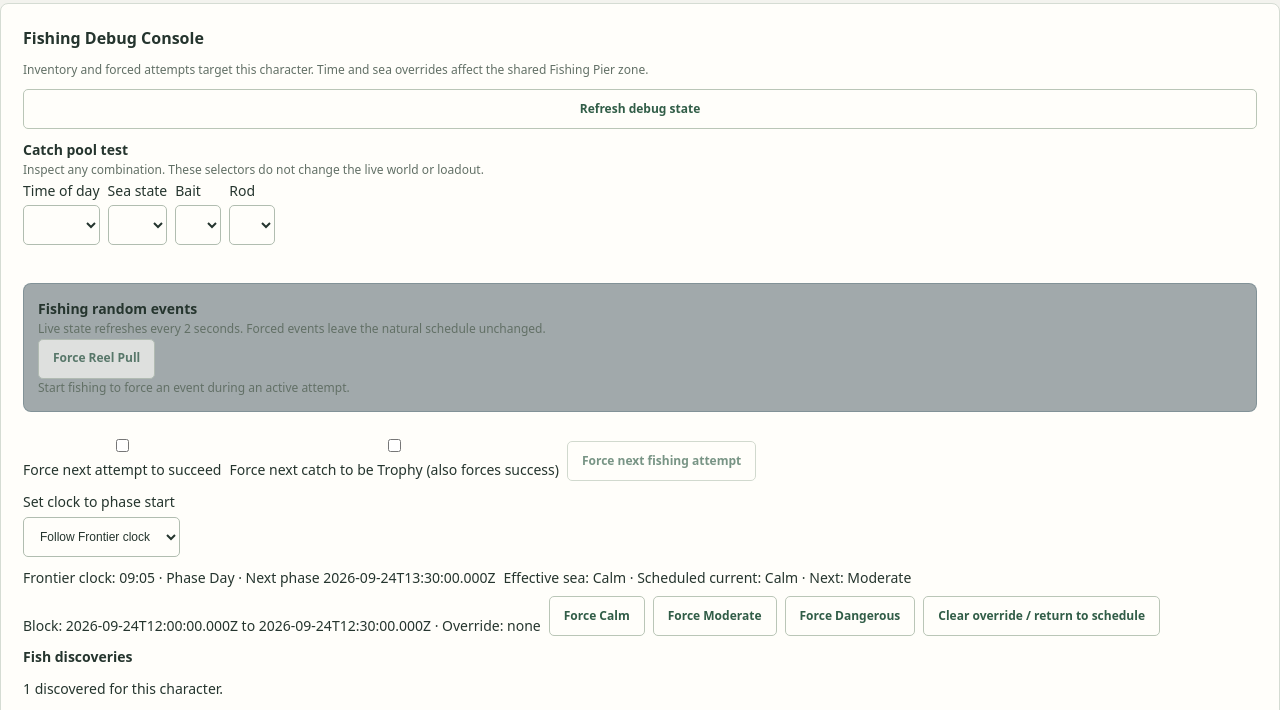
authorized Fishing tools › shows the effective clock and requires an explicit personal discovery reset
Expected: the text "1 discovered for this character." is shown, [23,679,223,698]
Expected: the text "Frontier clock: 09:05" is shown, [23,567,496,588]
Step 1. Select "Dawn" in the dropdown labelled "Set clock to phase start" → (102, 537), box [23,517,180,557]
(page scrolled)
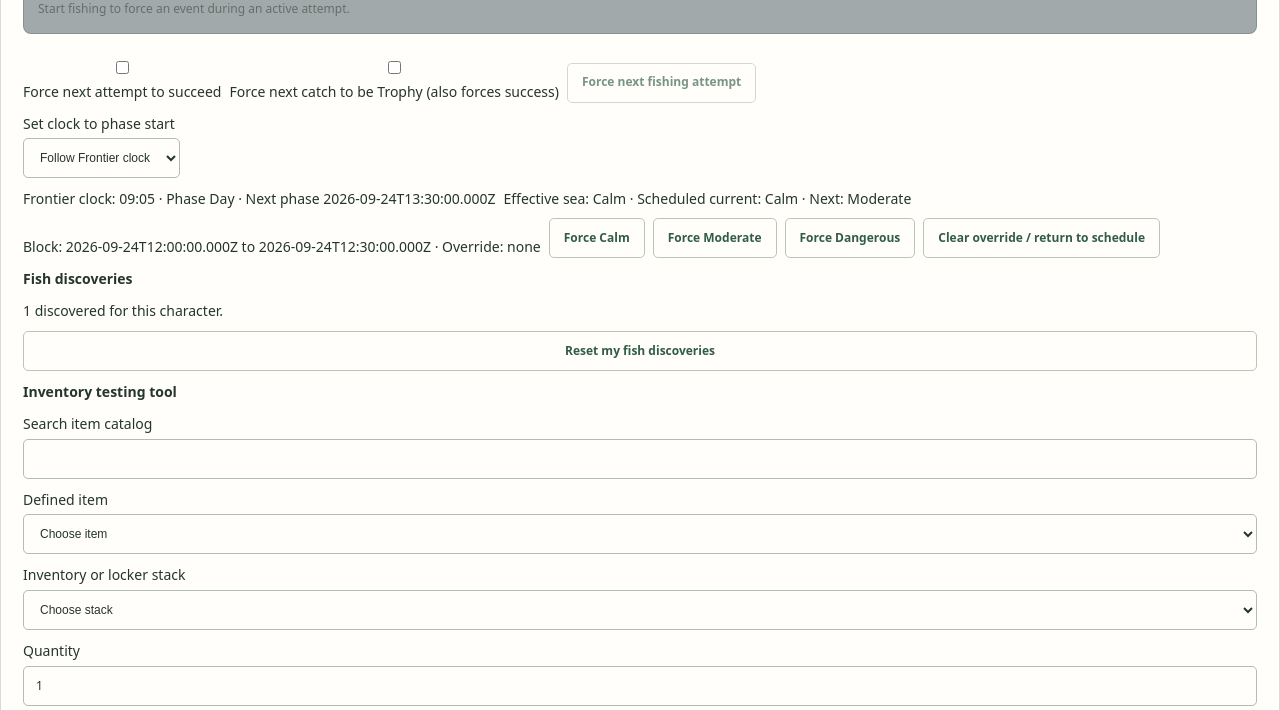
Step 2. Click the button "Reset my fish discoveries" → (640, 351), box [23,331,1257,371]
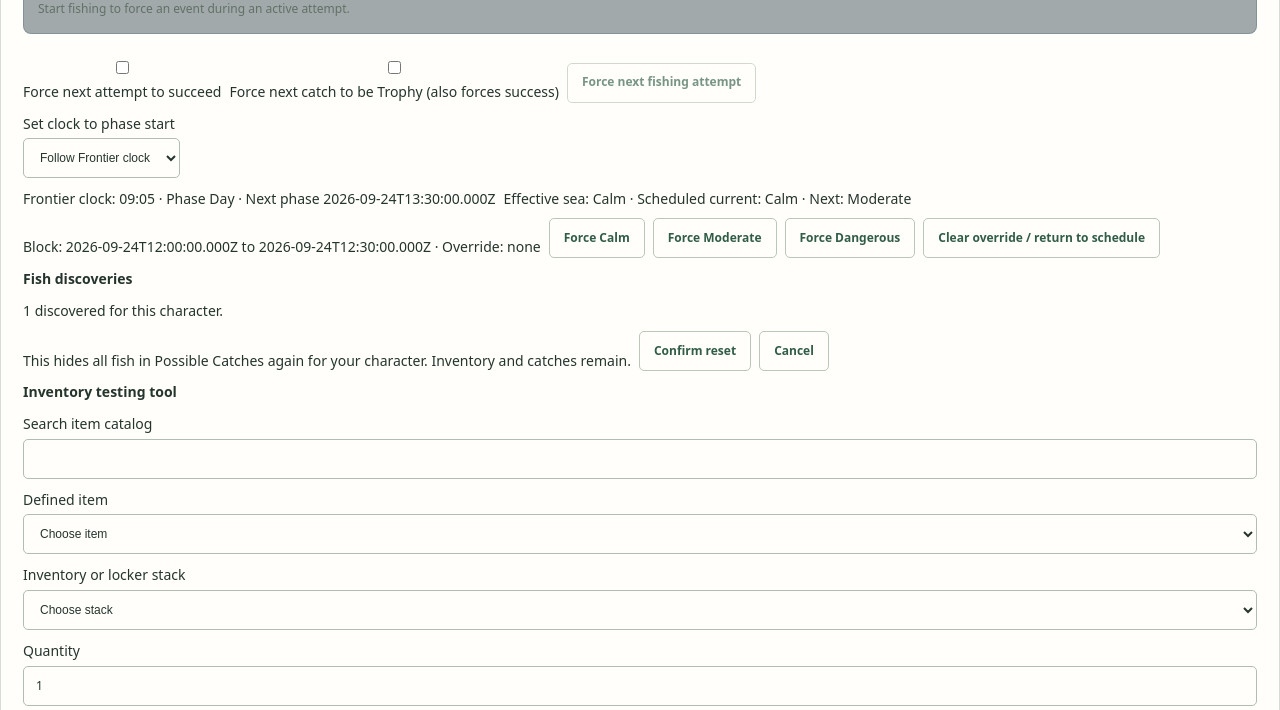
Step 3. Click the button "Confirm reset" → (695, 351), box [639,331,751,371]
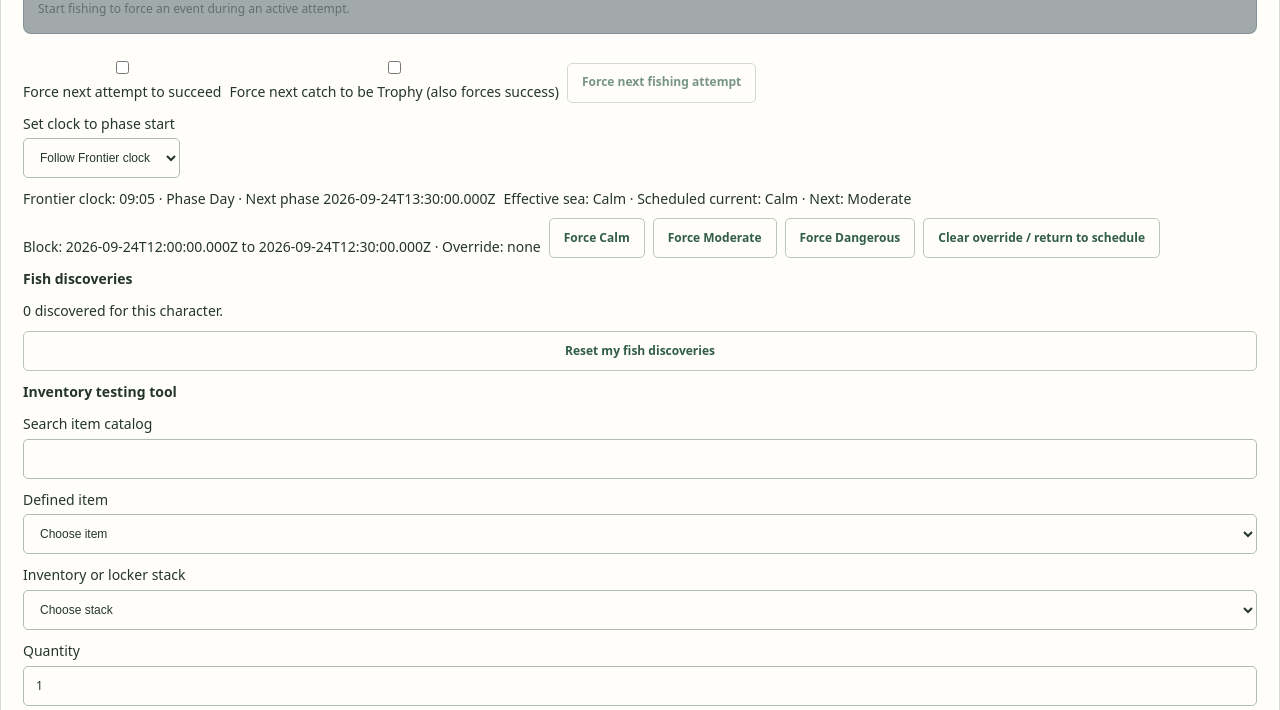
Expected: the text "0 discovered for this character." is shown, [23,301,223,320]
